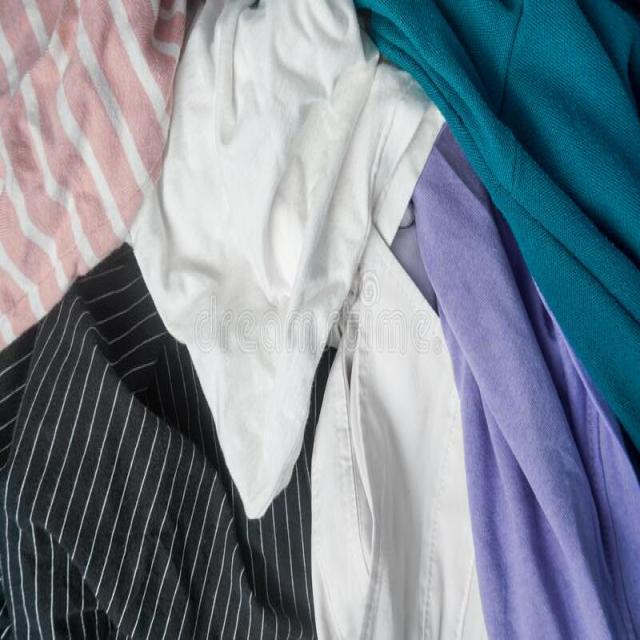clothes: (40, 33, 582, 606)
